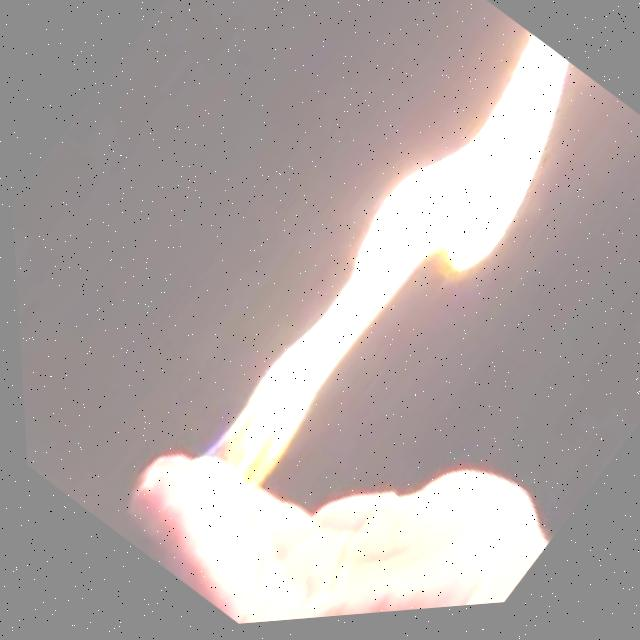Fire: (141, 20, 634, 561)
